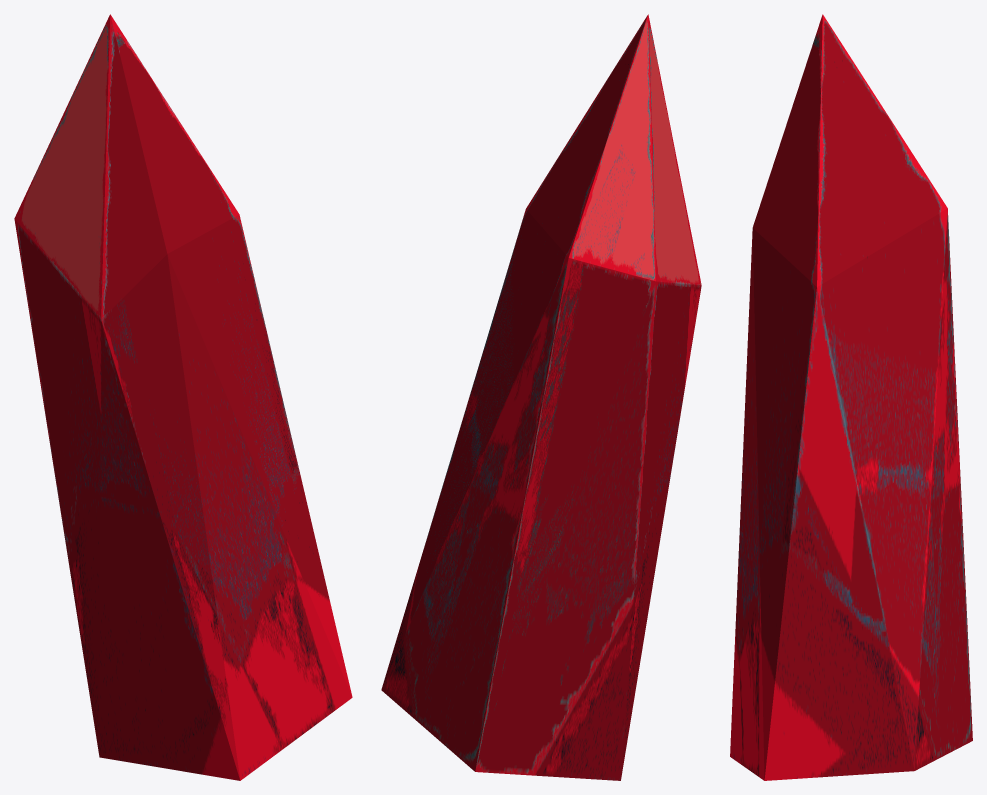
Rendered from Gem.fbx.
The picture shows the model from 3 angles, left to right: view 1: azimuth 30°, elevation 25°; view 2: azimuth 150°, elevation 25°; view 3: azimuth 270°, elevation 25°; orthographic projection. The views are drawn at different scales.
Parts seen in each view (by area): view 1: Icosphere.019_Icosphere.023; view 2: Icosphere.019_Icosphere.023; view 3: Icosphere.019_Icosphere.023.
Boxes of the visible parts, <box> form: Icosphere.019_Icosphere.023: <box>14,14,352,780</box>; Icosphere.019_Icosphere.023: <box>381,14,701,780</box>; Icosphere.019_Icosphere.023: <box>730,14,972,780</box>.
Bounding box in the file's own units: 88.24 × 236 × 72.69.
